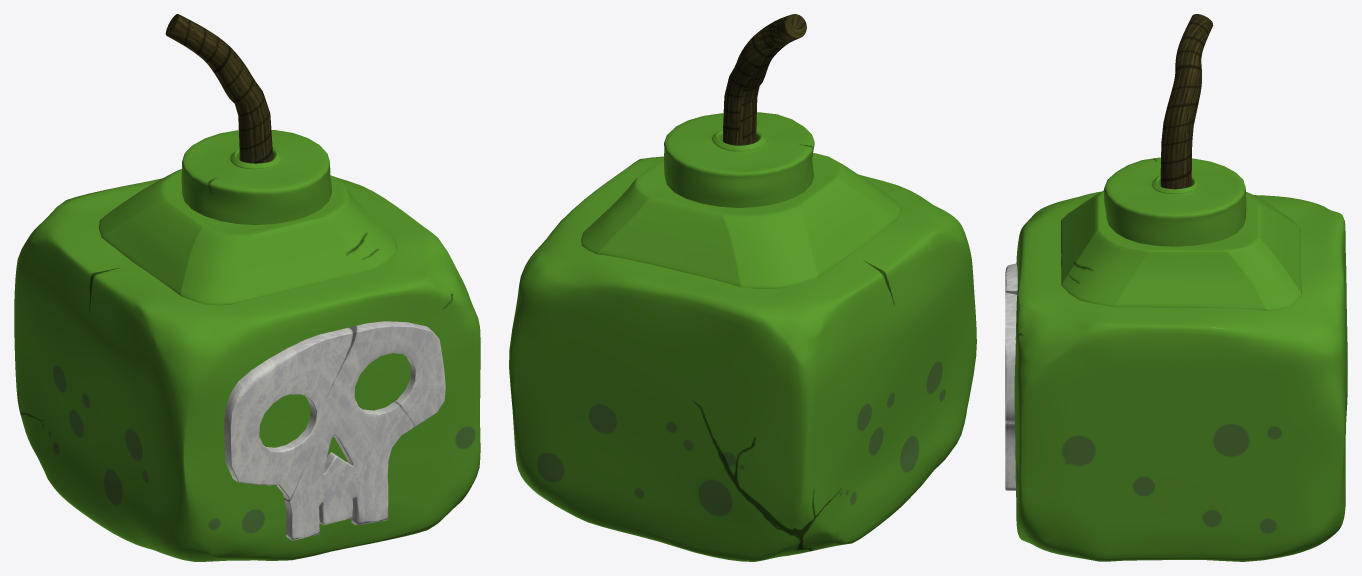
The model's file is bomb.glb.
3 views of the same model, side by side, from view 1: azimuth 30°, elevation 25°; view 2: azimuth 150°, elevation 25°; view 3: azimuth 270°, elevation 25° (orthographic). The views are drawn at different scales.
Visible parts, largest first — view 1: rock, skull, top01, top02, wick; view 2: rock, top01, top02, wick; view 3: rock, top01, top02, wick, skull.
Boxes of the visible parts, bbox=[...] form: rock: bbox=[14, 176, 480, 561]; skull: bbox=[224, 321, 445, 540]; top01: bbox=[99, 169, 396, 305]; top02: bbox=[181, 130, 331, 224]; wick: bbox=[165, 14, 272, 163]; rock: bbox=[509, 156, 976, 561]; top01: bbox=[581, 153, 901, 288]; top02: bbox=[663, 112, 814, 207]; wick: bbox=[723, 14, 806, 145]; rock: bbox=[1014, 191, 1347, 561]; top01: bbox=[1061, 190, 1301, 310]; top02: bbox=[1104, 157, 1246, 246]; wick: bbox=[1160, 14, 1213, 189]; skull: bbox=[1005, 263, 1017, 490].
Size of the model in its own units: 45.54 by 68.28 by 46.37.
Materials: 1 (1 with a texture image).
